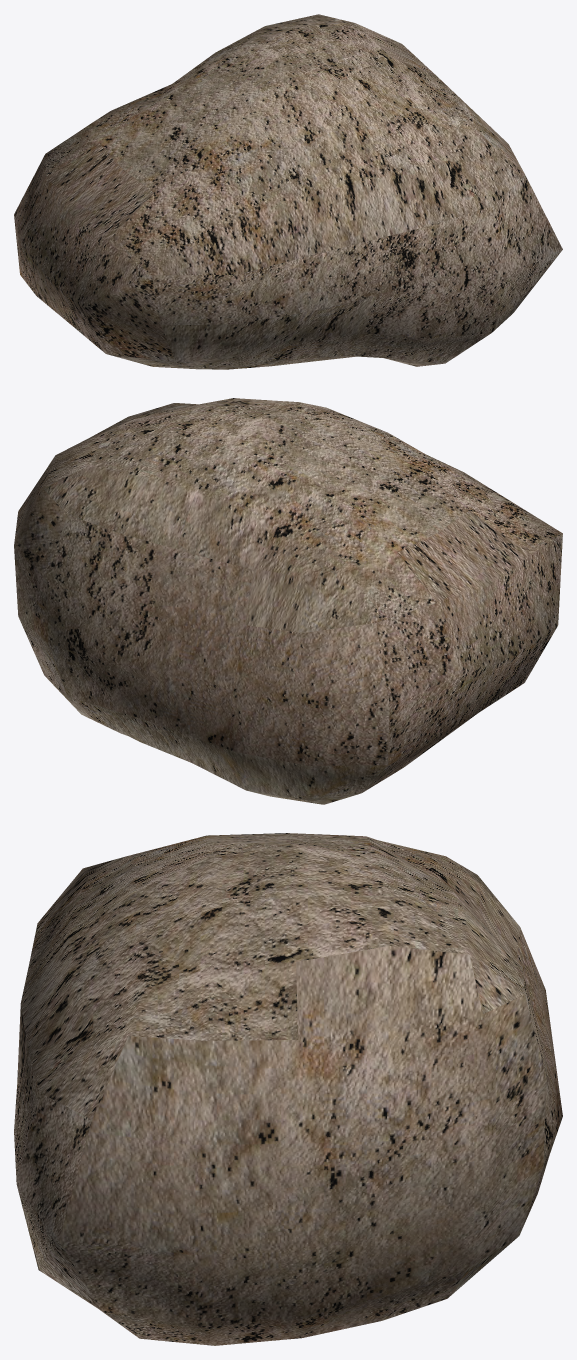
Rendered from rock5fbx.fbx.
3 views of the same model, one above another, from view 1: azimuth 30°, elevation 25°; view 2: azimuth 150°, elevation 25°; view 3: azimuth 270°, elevation 25° (orthographic). The views are drawn at different scales.
Parts seen in each view (by area): view 1: rock_5; view 2: rock_5; view 3: rock_5.
Boxes of the visible parts, x1,y1,x2,y2 form: rock_5: [14, 14, 562, 369]; rock_5: [14, 398, 562, 804]; rock_5: [14, 833, 562, 1345].
Bounding box in the file's own units: 5.81 × 3.64 × 4.32.
